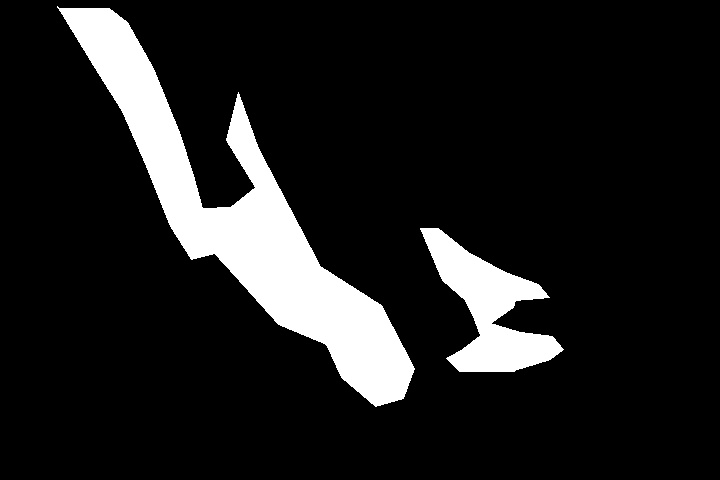Fire: (379, 188, 558, 374), (71, 10, 213, 240), (225, 244, 409, 403)
